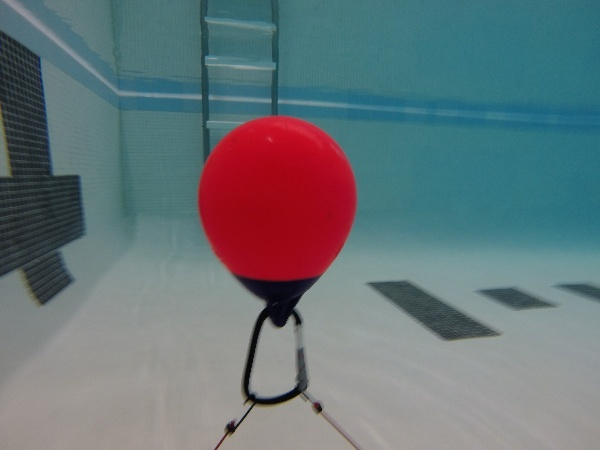buoy_red: (195, 115, 360, 329)
